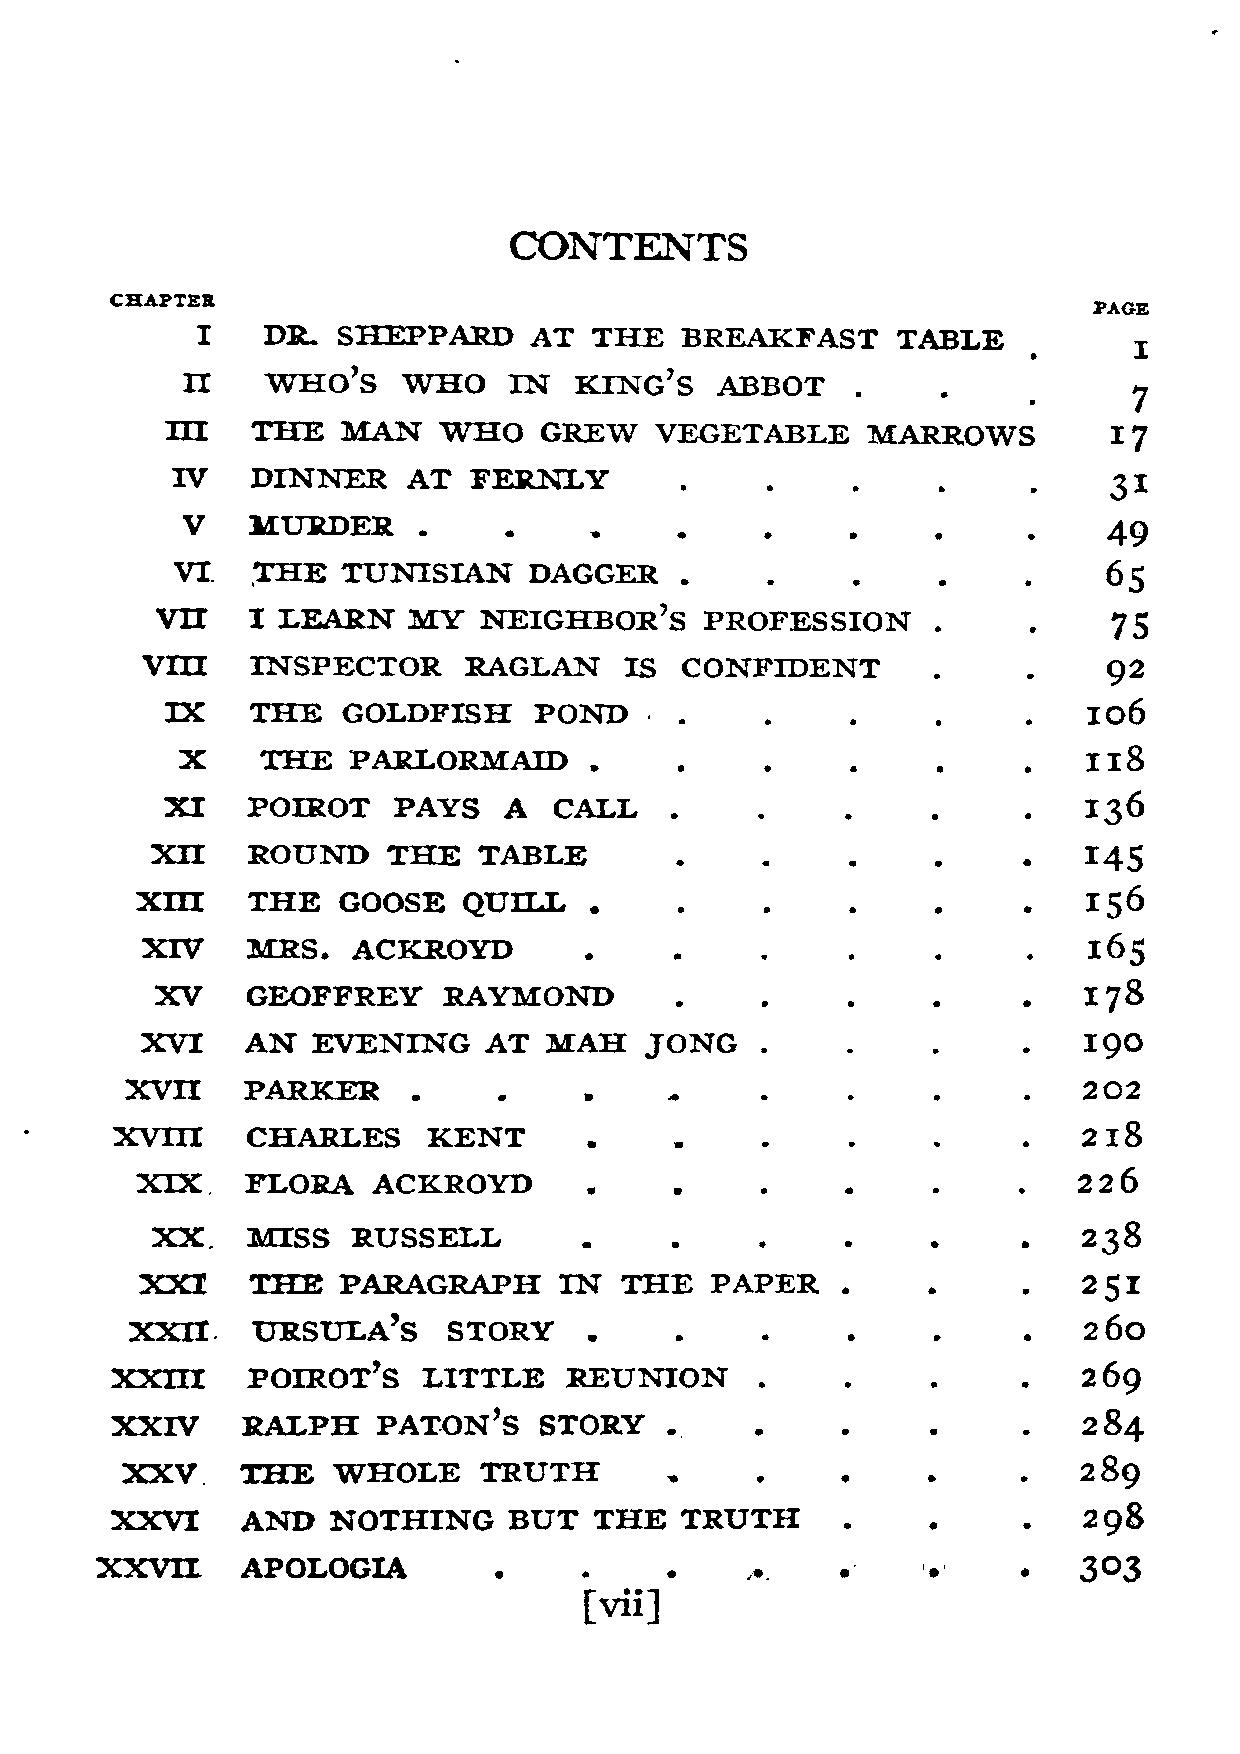TOC_chapter: (188, 317, 1015, 357), (156, 413, 1041, 450), (153, 603, 917, 637), (138, 650, 884, 682), (178, 366, 829, 400), (136, 1027, 739, 1062), (138, 1270, 820, 1300), (105, 1358, 730, 1392), (107, 1503, 804, 1533), (107, 1406, 644, 1437), (156, 789, 641, 823), (156, 694, 639, 727), (166, 554, 664, 586), (129, 884, 570, 919), (123, 1311, 557, 1346), (148, 981, 619, 1012), (114, 1456, 605, 1486), (166, 460, 611, 493), (146, 837, 590, 870), (132, 1168, 534, 1201), (140, 930, 517, 965), (107, 1121, 525, 1151), (174, 743, 570, 774), (146, 1221, 505, 1253), (93, 1551, 412, 1584), (123, 1075, 384, 1104), (176, 510, 399, 542)
TOC_pagenumber: (1083, 786, 1146, 829), (1084, 927, 1147, 969), (1084, 739, 1151, 778), (1080, 1357, 1147, 1394), (1080, 1405, 1146, 1443), (1079, 1451, 1142, 1490), (1082, 977, 1147, 1013), (1084, 694, 1147, 731), (1083, 1499, 1143, 1538), (1083, 883, 1147, 919), (1079, 1551, 1143, 1588), (1079, 1219, 1143, 1253), (1082, 1027, 1143, 1062), (1078, 1164, 1141, 1197), (1080, 1270, 1143, 1303), (1083, 1311, 1147, 1343), (1084, 840, 1143, 875), (1080, 1118, 1143, 1150), (1103, 556, 1147, 596), (1080, 1075, 1141, 1103), (1104, 651, 1147, 687), (1106, 420, 1151, 454), (1102, 515, 1149, 548), (1103, 609, 1151, 640), (1107, 471, 1151, 505), (1126, 382, 1149, 413), (1126, 336, 1151, 362)
chapter: (505, 225, 750, 264)
